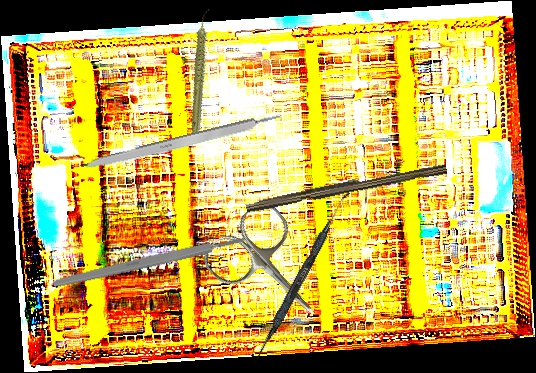Handpiece: (163, 6, 240, 144)
Iris Scissors: (197, 195, 346, 346)
Scalpel Handle: (79, 111, 285, 175), (244, 157, 448, 217), (51, 233, 247, 291)
Spatula Surgical: (253, 188, 351, 363)
